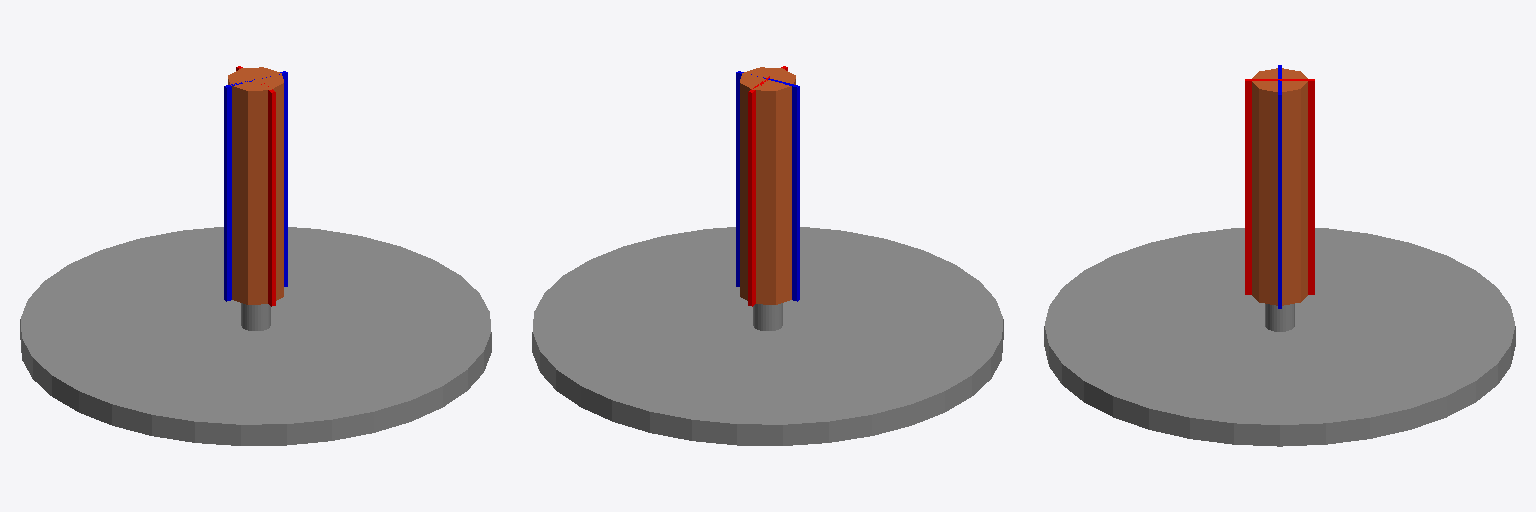
robot.urdf — screwdriver:
<?xml version="1.0"?>
<robot name="screwdriver">

  <!-- ========== BASE (wide cylinder) ========== -->
  <link name="base">
    <visual>
      <origin xyz="0 0 0" />
      <geometry>
        <cylinder radius="0.1" length="0.01" />
      </geometry>
      <material name="base_material">
        <color rgba="0.6 0.6 0.6 1" />
      </material>
    </visual>
    <collision>
      <origin xyz="0 0 0" />
      <geometry>
        <cylinder radius="0.1" length="0.01" />
      </geometry>
    </collision>
    <inertial>
      <mass value="10.0" />
      <origin xyz="0 0 0" />
      <inertia ixx="0.02508" ixy="0.0" ixz="0.0" iyy="0.02508" iyz="0.0" izz="0.05" />
    </inertial>
  </link>

  <!-- ========== HANDLE (upper, orange) ========== -->
  <link name="handle">
    <visual>
      <origin xyz="0 0 0.01" />
      <geometry>
        <mesh filename="../meshes/screw_upper_8.stl" />
      </geometry>
      <material name="handle_orange">
        <color rgba="0.8 0.4 0.2 1"/>
      </material>
    </visual>
    <collision>
      <origin xyz="0 0 0.01" />
      <geometry>
        <mesh filename="../meshes/screw_upper_8.stl" />
      </geometry>
    </collision>
    <inertial>
      <origin xyz="0 0 0.01" />
      <mass value="0.05595962"/>
      <inertia ixx="0.0000442722195" ixy="0" ixz="0"
               iyy="0.0000442722195" iyz="0"
               izz="0.00000437184525"/>
    </inertial>
    <!-- Red stripe on nut -->
    <visual>
      <origin xyz="0 0 0.06" rpy="0 0 0"/>
      <geometry>
        <!-- thin box wrapping around the cylinder -->
        <box size="0.002 0.03 0.1"/>
      </geometry>
      <material name="stripe_red">
        <color rgba="1 0 0 1"/>
      </material>
    </visual>

    <!-- Blue stripe on nut -->
    <visual>
      <origin xyz="0 0 0.06" rpy="0 0 1.5708"/>
      <geometry>
        <box size="0.002 0.03 0.1"/>
      </geometry>
      <material name="stripe_blue">
        <color rgba="0 0 1 1"/>
      </material>
    </visual>
  </link>

  <!-- ========== SHAFT (lower, gray) ========== -->
  <link name="shaft">
    <visual>
      <origin xyz="0 0 0.01" />
      <geometry>
        <cylinder radius="0.00625" length="0.02" />
      </geometry>
      <material name="shaft_gray">
        <color rgba="0.6 0.6 0.6 1"/>
      </material>
    </visual>
    <collision>
      <origin xyz="0 0 0.01" />
      <geometry>
        <cylinder radius="0.00625" length="0.02" />
      </geometry>
    </collision>
    <inertial>
      <origin xyz="0 0 0.01" />
      <mass value="0.01233075"/>
      <inertia ixx="0.00000659566742" ixy="0" ixz="0"
               iyy="0.00000659566742" iyz="0"
               izz="0.0000000385335974"/>
    </inertial>
  </link>

  <!-- Base–shaft connection (fixed) -->
  <joint name="base_to_shaft" type="fixed">
    <parent link="base" />
    <child  link="shaft" />
    <origin xyz="0 0 0" rpy="0 0 0" />
  </joint>

  <!-- Handle–shaft connection (revolute joint for training)-->
  <joint name="handle_to_shaft" type="revolute">
    <parent link="shaft"/>
    <child  link="handle"/>
    <origin xyz="0 0 0.01" rpy="0 0 0"/>
    <axis  xyz="0 0 -1" />
    <dynamics friction="0.2"/>
    <limit lower="0.0" upper="628.3185" effort="2.0" velocity="6.2832" /> <!-- 100 rotations -->
  </joint>
</robot>

--- Facts derived from the render (not from the file) ---
3 views of the same robot in one strip: view 1: azimuth 30°, elevation 25°; view 2: azimuth 150°, elevation 25°; view 3: azimuth 270°, elevation 25° (orthographic).
Model screwdriver with 3 links and 2 joints (1 revolute, 1 fixed), rooted at base, posed all joints at 0.
Links seen in each view (by area): view 1: base, handle, shaft; view 2: base, handle, shaft; view 3: base, handle, shaft.
Boxes of the visible links, x1,y1,x2,y2 form: base: (20,227,491,445); handle: (224,66,287,306); shaft: (241,303,270,330); base: (532,227,1003,445); handle: (736,66,799,306); shaft: (753,303,782,330); base: (1044,228,1515,446); handle: (1245,65,1314,308); shaft: (1265,304,1294,331).
Size in the robot's own frame: 0.2 by 0.2 by 0.125 metres.
Meshes: 1 distinct files referenced, 1 mesh visuals loaded (1 binary STL).